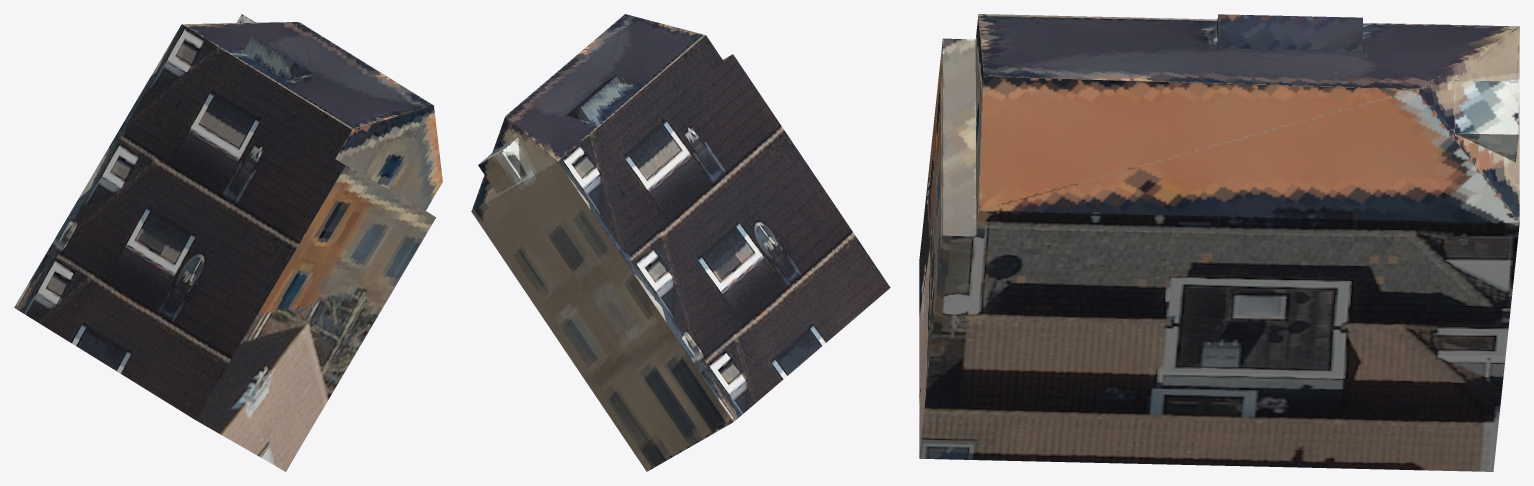
3 renders of one model, left to right at view 1: azimuth 30°, elevation 25°; view 2: azimuth 150°, elevation 25°; view 3: azimuth 270°, elevation 25°, orthographic. The views are drawn at different scales.
Visible parts, largest first — view 1: BAG_0599100000688699 (×6); view 2: BAG_0599100000688699 (×6); view 3: BAG_0599100000688699 (×6).
Part boxes in pixels (x1,y1,x2,y2): BAG_0599100000688699 (×6): (14, 14, 442, 471); BAG_0599100000688699 (×6): (471, 14, 890, 471); BAG_0599100000688699 (×6): (919, 14, 1519, 471).
Bounding box in the file's own units: 10.94 × 12.55 × 12.47.
Materials: 6 (6 with a texture image).
